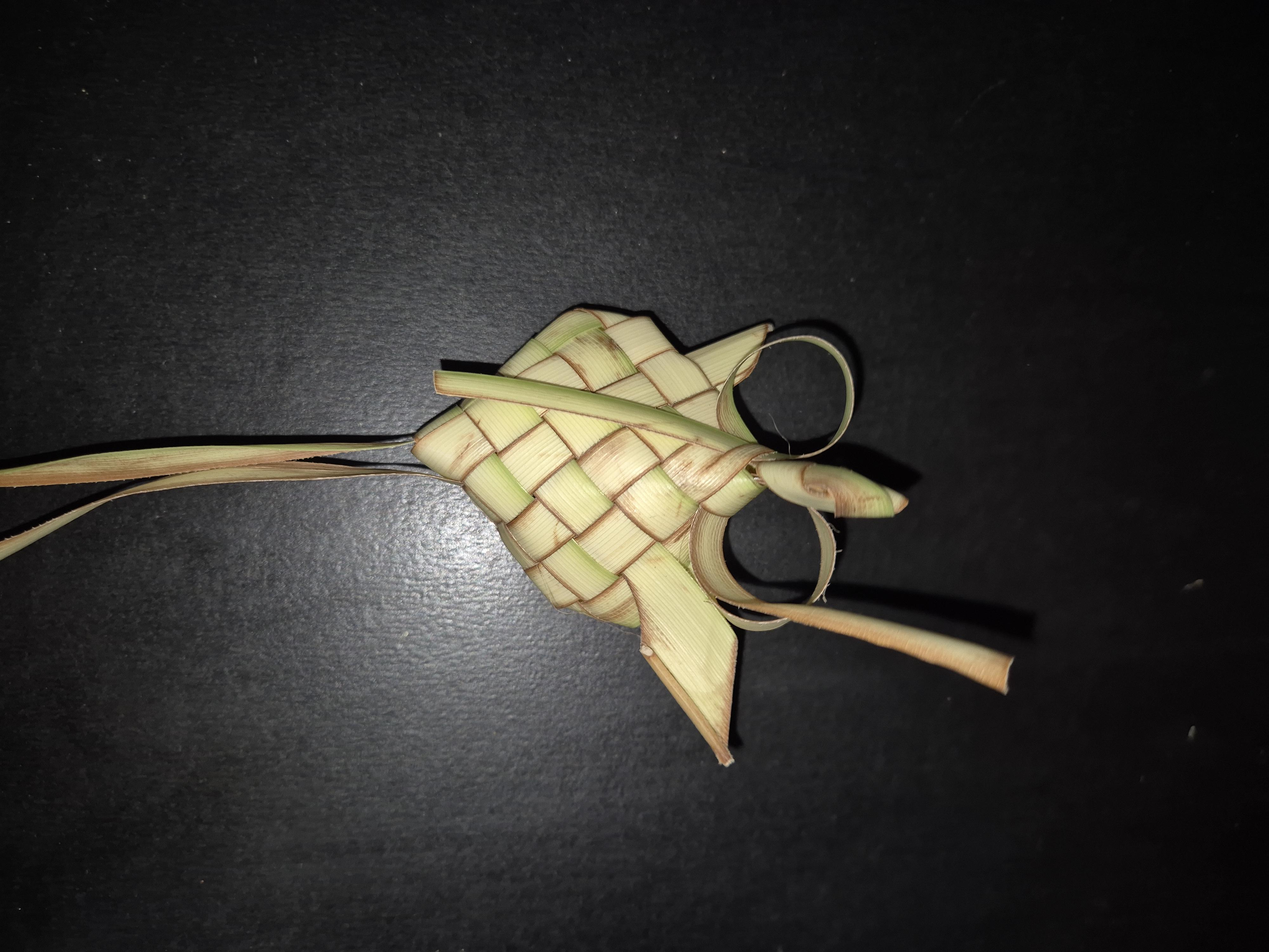Tipat Dampulan: (250, 310, 858, 759)
